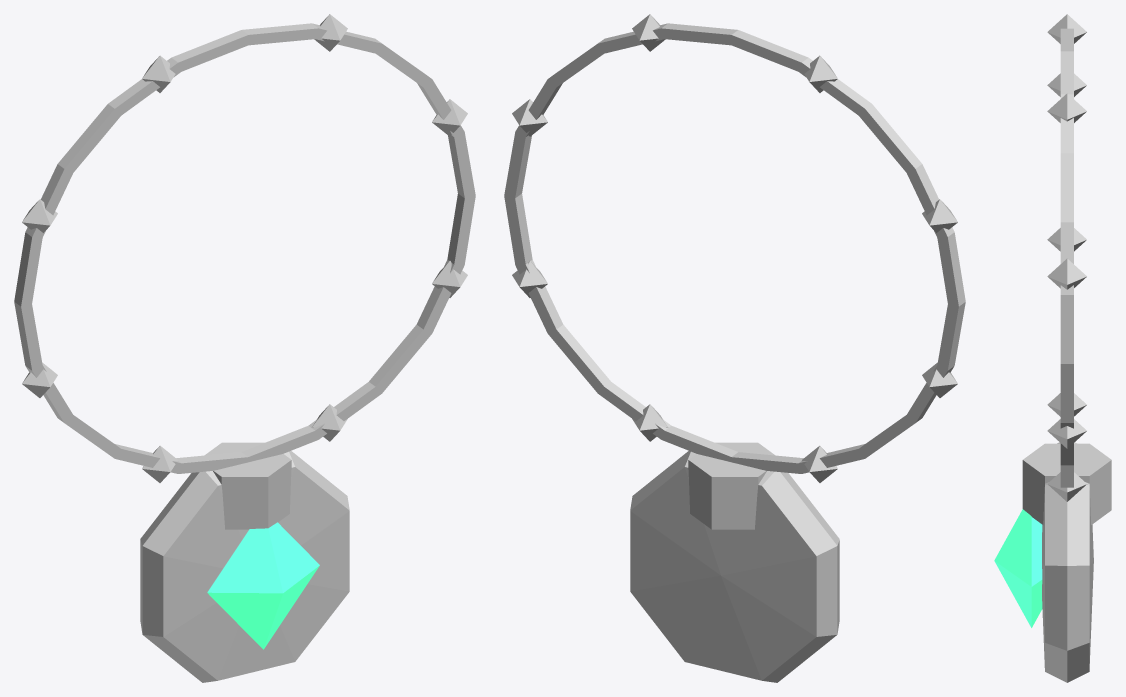
Rendered from jewel_amulet.glb.
3 views of the same model, side by side, from view 1: azimuth 30°, elevation 25°; view 2: azimuth 150°, elevation 25°; view 3: azimuth 270°, elevation 25° (orthographic). The views are drawn at different scales.
Visible parts, largest first — view 1: jewel_amulet; view 2: jewel_amulet; view 3: jewel_amulet.
Part boxes in pixels (bbox=[...]): jewel_amulet: bbox=[14, 14, 475, 682]; jewel_amulet: bbox=[504, 14, 965, 682]; jewel_amulet: bbox=[994, 14, 1111, 682].
Size of the model in its own units: 0.2254 by 0.3033 by 0.0528.
